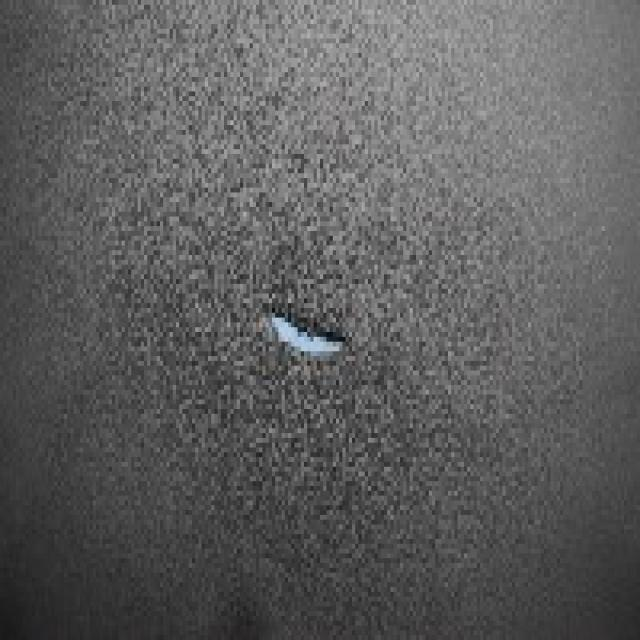Hole: (219, 233, 389, 444)
